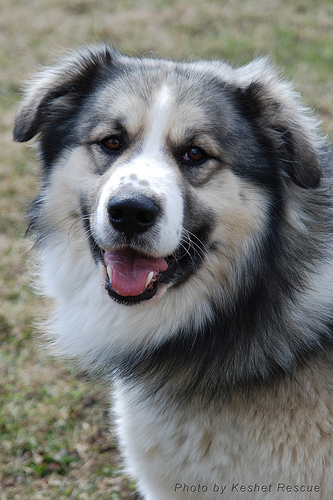dog: (13, 43, 331, 496)
